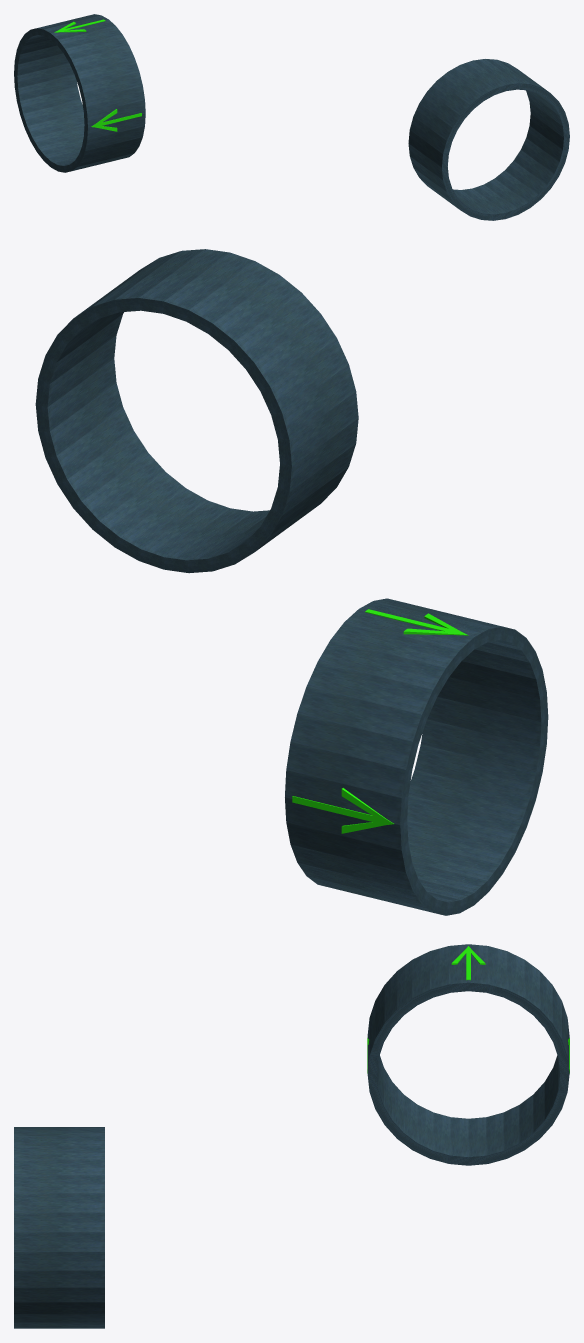
Rendered from Medium Dark Energy Pipe 2.obj.
3 views of the same model, one above another, from view 1: azimuth 30°, elevation 25°; view 2: azimuth 150°, elevation 25°; view 3: azimuth 270°, elevation 25° (orthographic). The views are drawn at different scales.
Visible parts, largest first — view 1: Cylinder.012; view 2: Cylinder.012; view 3: Cylinder.012.
Part boxes in pixels (x1,y1,x2,y2): Cylinder.012: [14, 14, 569, 220]; Cylinder.012: [35, 249, 548, 915]; Cylinder.012: [14, 944, 569, 1328].
Size of the model in its own units: 1.83 by 0.6691 by 1.83.
